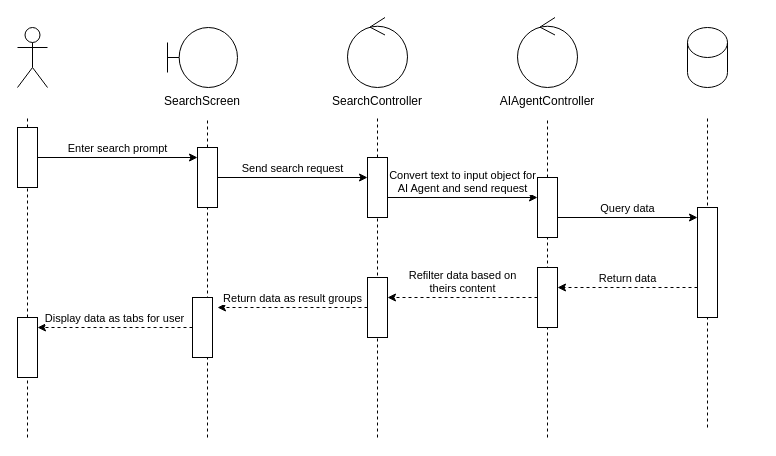
This 776x456 diagram has some shape labels left out. Each missing label, with the box of its shape:
Multiple Databases: (686, 26, 728, 88)
User: (16, 26, 48, 88)
